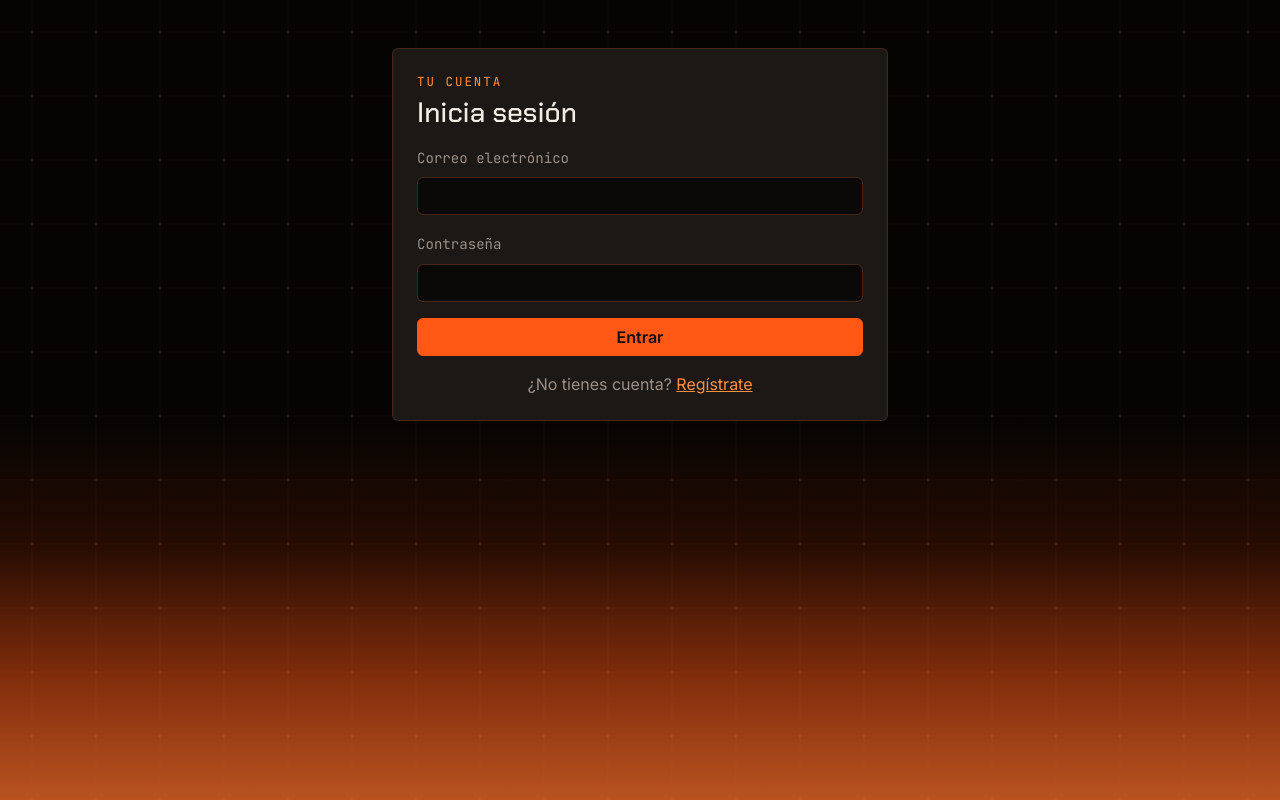
Scenario: <Login /> › muestra un error cuando las credenciales son incorrectas
The width and height of the screenshot is (1280, 800).
Step 1. Type "admin@armatelo.cl" into the field labelled "Correo electrónico" → (640, 196), box [417,177,863,215]
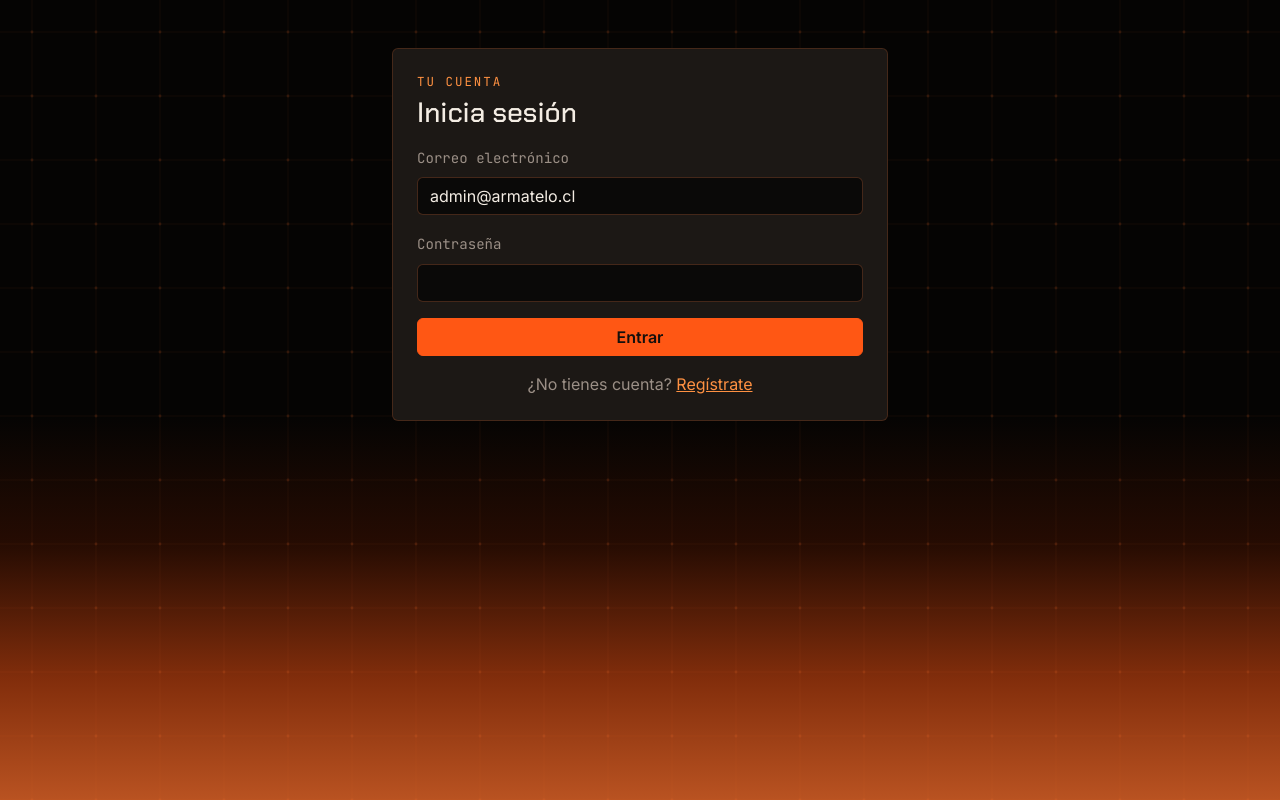
Step 2. Type "incorrecta1" into the password field labelled "Contraseña" → (640, 282), box [417,264,863,302]
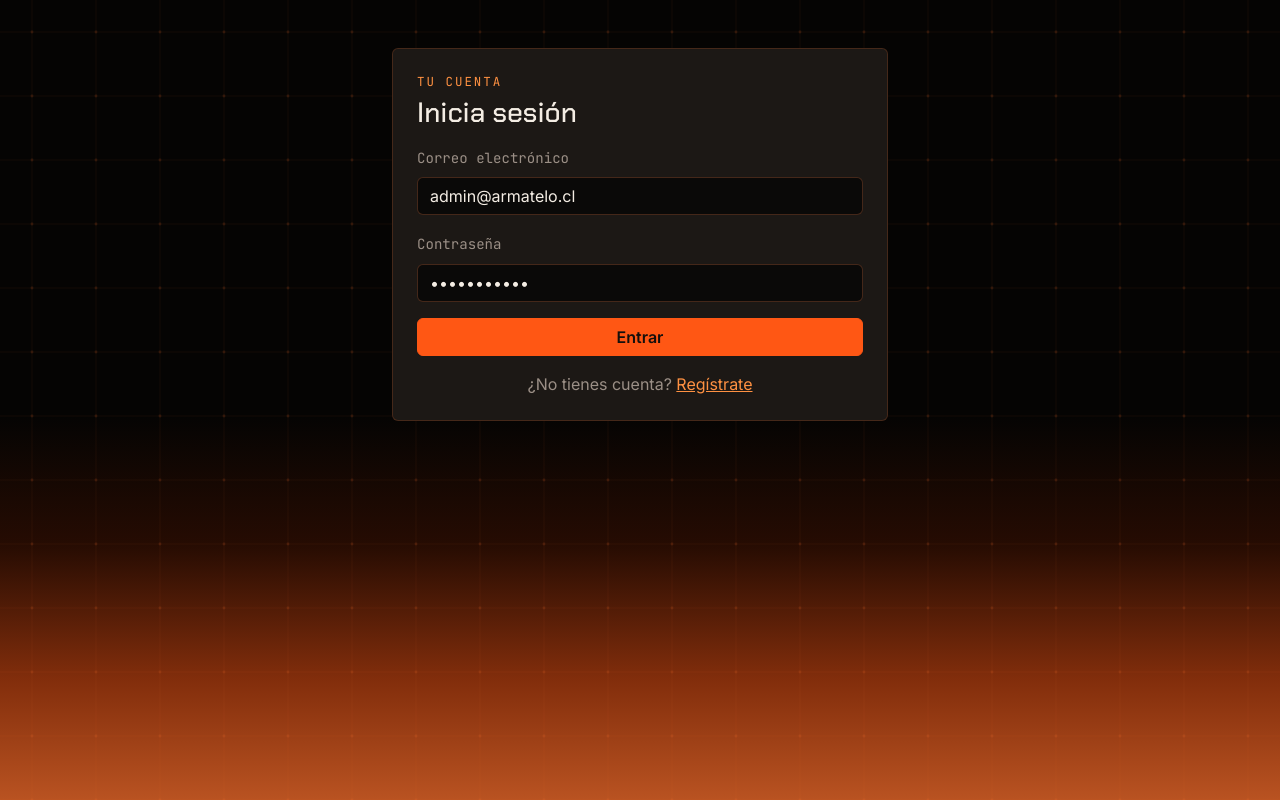
Step 3. Click the button "Entrar" → click(640, 336), box [417,318,863,356]
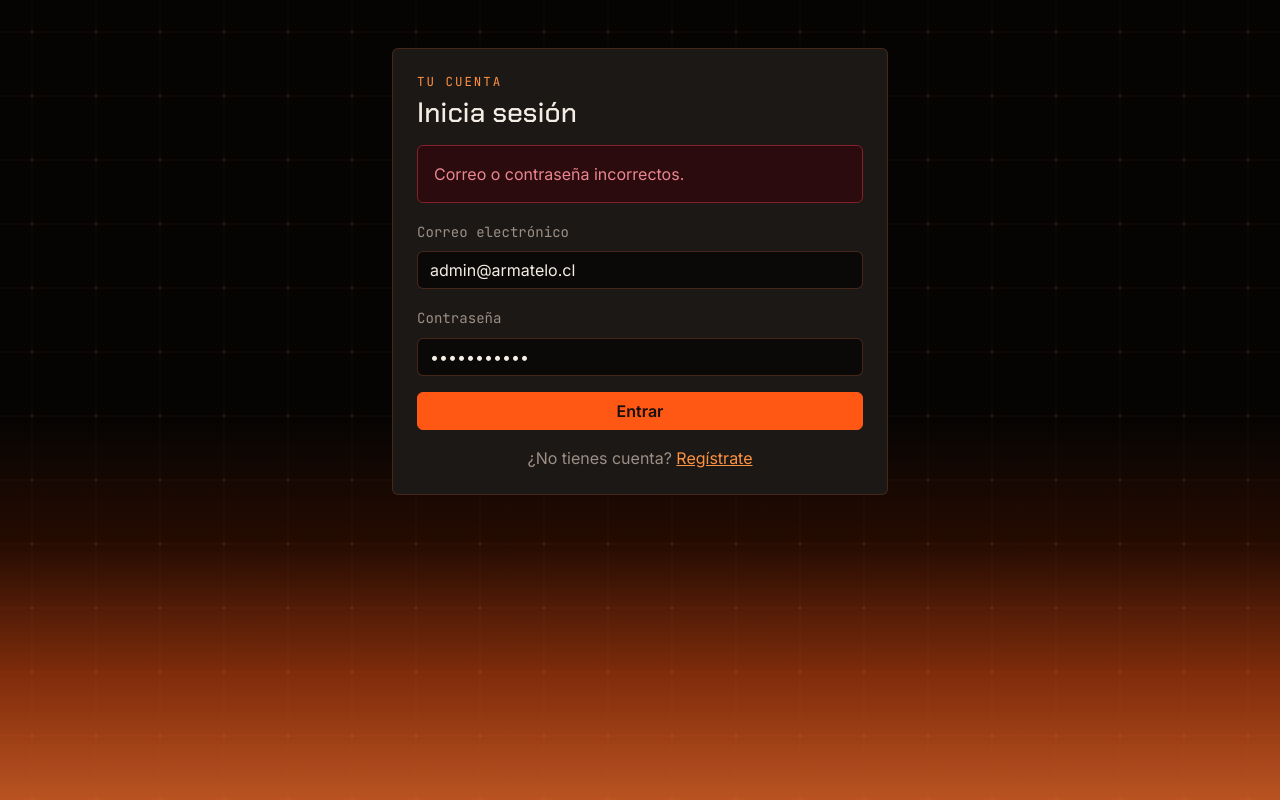
Check: the text "Correo o contraseña incorrectos." is shown, box [434,162,684,186]
